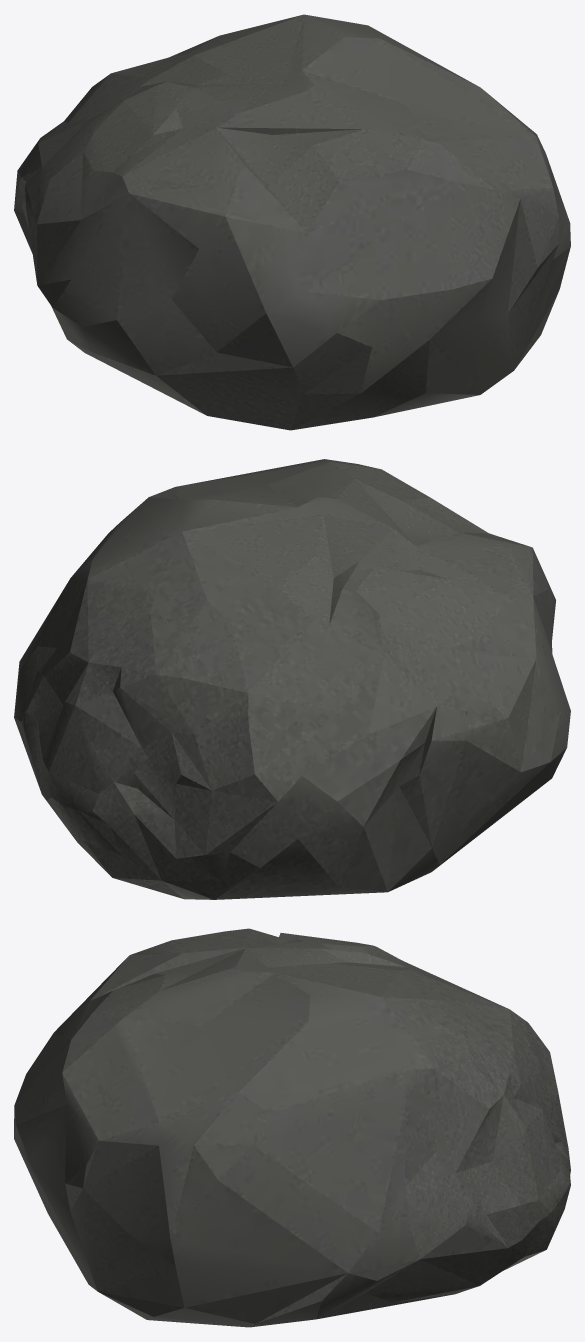
File: rock.glb
The picture shows the model from 3 angles, top to bottom: view 1: azimuth 30°, elevation 25°; view 2: azimuth 150°, elevation 25°; view 3: azimuth 270°, elevation 25°; orthographic projection. The views are drawn at different scales.
Bounding box in the file's own units: 1.82 × 1.07 × 1.89.
Materials: 1 (1 with a texture image).
